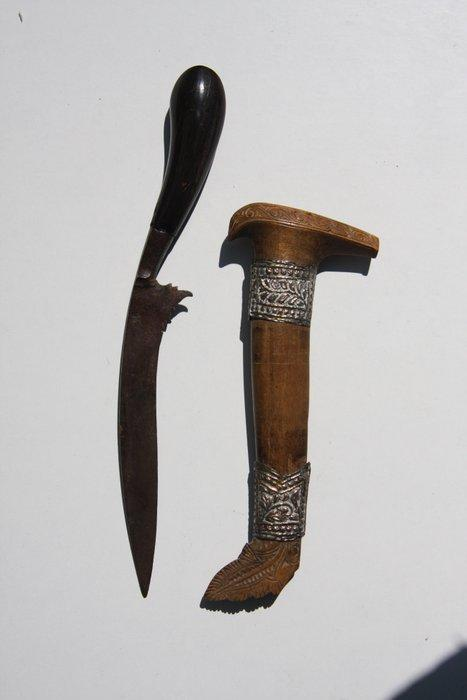facao: (118, 66, 224, 597)
